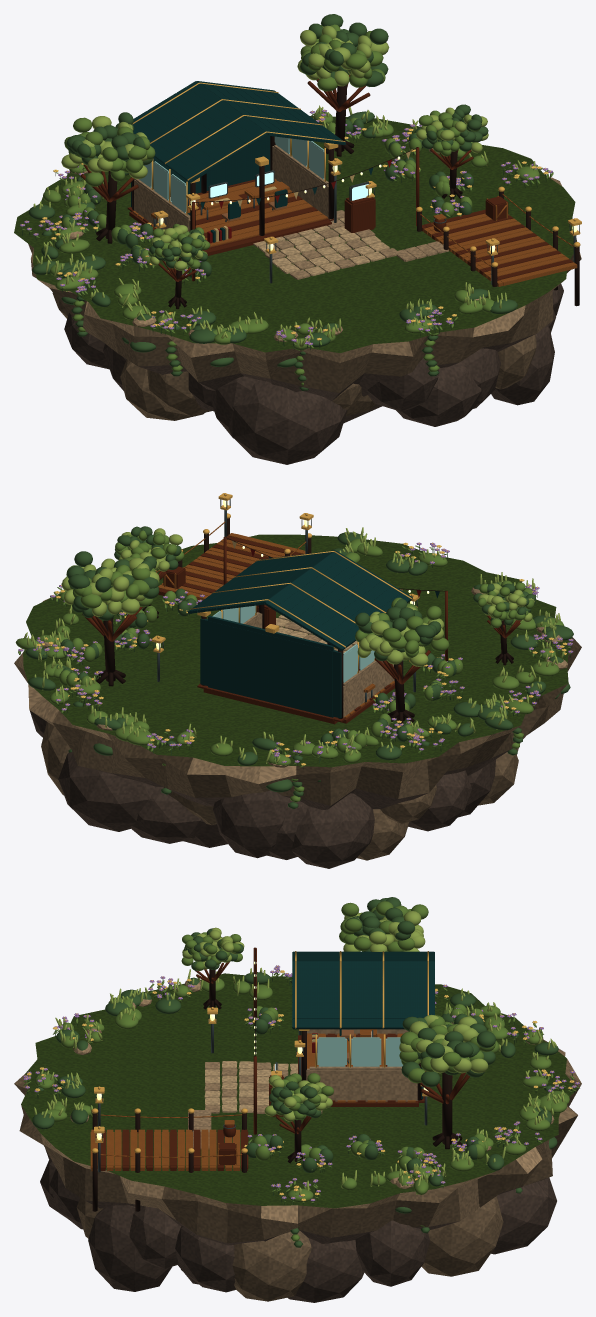
File: atelier.glb
3 renders of one model, top to bottom at view 1: azimuth 30°, elevation 25°; view 2: azimuth 150°, elevation 25°; view 3: azimuth 270°, elevation 25°, orthographic.
Parts seen in each view (by area): view 1: GEO-atelier-grass.004, GEO-atelier-rock.004, GEO-atelier-rockLight.004, GEO-atelier-leaf.004, GEO-atelier-leafDark.004, GEO-atelier-teal.004, GEO-atelier-stone.004, GEO-atelier-leafLight.004, GEO-atelier-oak.004, GEO-atelier-wood.004, GEO-atelier-darkwood.004, GEO-atelier-stoneLight.004 (+5 smaller); view 2: GEO-atelier-grass.004, GEO-atelier-rock.004, GEO-atelier-teal.004, GEO-atelier-rockLight.004, GEO-atelier-leaf.004, GEO-atelier-leafDark.004, GEO-atelier-leafLight.004, GEO-atelier-stone.004, GEO-atelier-wood.004, GEO-atelier-oak.004, GEO-atelier-purple.004, GEO-atelier-darkwood.004 (+4 smaller); view 3: GEO-atelier-grass.004, GEO-atelier-rock.004, GEO-atelier-rockLight.004, GEO-atelier-leaf.004, GEO-atelier-leafDark.004, GEO-atelier-stone.004, GEO-atelier-teal.004, GEO-atelier-leafLight.004, GEO-atelier-oak.004, GEO-atelier-wood.004, GEO-atelier-darkwood.004, GEO-atelier-glass.004 (+5 smaller).
Boxes of the visible parts, x1=… form: GEO-atelier-grass.004: x1=14, y1=116, x2=575, y2=352; GEO-atelier-rock.004: x1=33, y1=276, x2=563, y2=464; GEO-atelier-rockLight.004: x1=28, y1=244, x2=580, y2=420; GEO-atelier-leaf.004: x1=22, y1=24, x2=553, y2=386; GEO-atelier-leafDark.004: x1=22, y1=14, x2=550, y2=390; GEO-atelier-teal.004: x1=131, y1=81, x2=373, y2=242; GEO-atelier-stone.004: x1=31, y1=145, x2=581, y2=362; GEO-atelier-leafLight.004: x1=33, y1=25, x2=535, y2=347; GEO-atelier-oak.004: x1=133, y1=179, x2=577, y2=286; GEO-atelier-wood.004: x1=80, y1=75, x2=572, y2=281; GEO-atelier-darkwood.004: x1=96, y1=85, x2=579, y2=309; GEO-atelier-stoneLight.004: x1=253, y1=217, x2=389, y2=275; GEO-atelier-grass.004: x1=23, y1=534, x2=572, y2=767; GEO-atelier-rock.004: x1=29, y1=710, x2=524, y2=868; GEO-atelier-teal.004: x1=188, y1=550, x2=439, y2=718; GEO-atelier-rockLight.004: x1=14, y1=647, x2=581, y2=860; GEO-atelier-leaf.004: x1=15, y1=530, x2=571, y2=802; GEO-atelier-leafDark.004: x1=20, y1=526, x2=573, y2=809; GEO-atelier-leafLight.004: x1=24, y1=527, x2=564, y2=764; GEO-atelier-stone.004: x1=14, y1=587, x2=581, y2=783; GEO-atelier-wood.004: x1=82, y1=536, x2=521, y2=724; GEO-atelier-oak.004: x1=156, y1=521, x2=394, y2=718; GEO-atelier-purple.004: x1=18, y1=542, x2=573, y2=762; GEO-atelier-darkwood.004: x1=96, y1=518, x2=513, y2=723; GEO-atelier-grass.004: x1=21, y1=973, x2=576, y2=1208; GEO-atelier-rock.004: x1=40, y1=1148, x2=556, y2=1302; GEO-atelier-rockLight.004: x1=14, y1=1084, x2=581, y2=1301; GEO-atelier-leaf.004: x1=23, y1=901, x2=579, y2=1241; GEO-atelier-leafDark.004: x1=25, y1=897, x2=577, y2=1247; GEO-atelier-stone.004: x1=14, y1=980, x2=581, y2=1223; GEO-atelier-teal.004: x1=292, y1=951, x2=434, y2=1098; GEO-atelier-leafLight.004: x1=34, y1=907, x2=564, y2=1195; GEO-atelier-oak.004: x1=90, y1=1029, x2=415, y2=1171; GEO-atelier-wood.004: x1=100, y1=947, x2=469, y2=1170; GEO-atelier-darkwood.004: x1=92, y1=948, x2=462, y2=1211; GEO-atelier-glass.004: x1=317, y1=1037, x2=403, y2=1066.
Size of the model in its own units: 26.96 by 15.07 by 26.6.
Materials: 22 (11 with a texture image).
